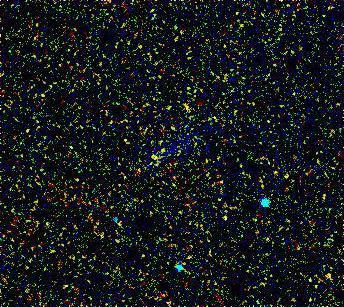star: (143, 142, 173, 172)
